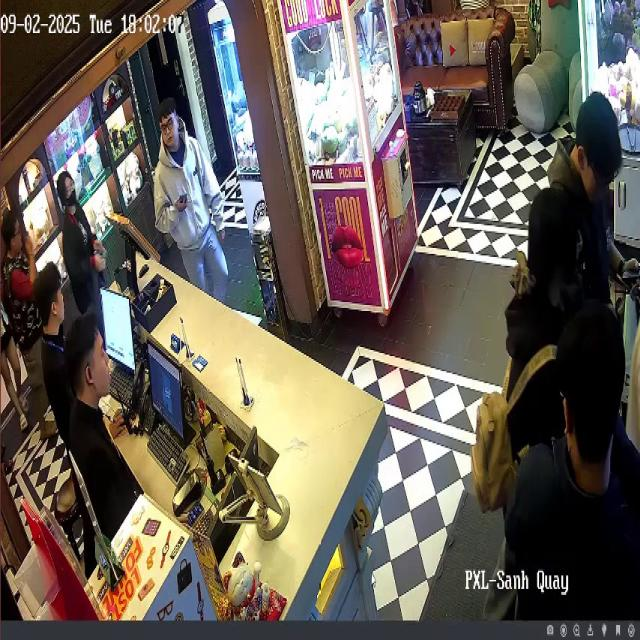khach: (504, 302, 640, 626), (477, 159, 578, 521), (531, 52, 629, 358), (151, 97, 231, 312), (2, 194, 52, 415), (56, 147, 116, 329), (0, 243, 32, 438)
nhan vien: (64, 311, 142, 552), (26, 248, 79, 468)
